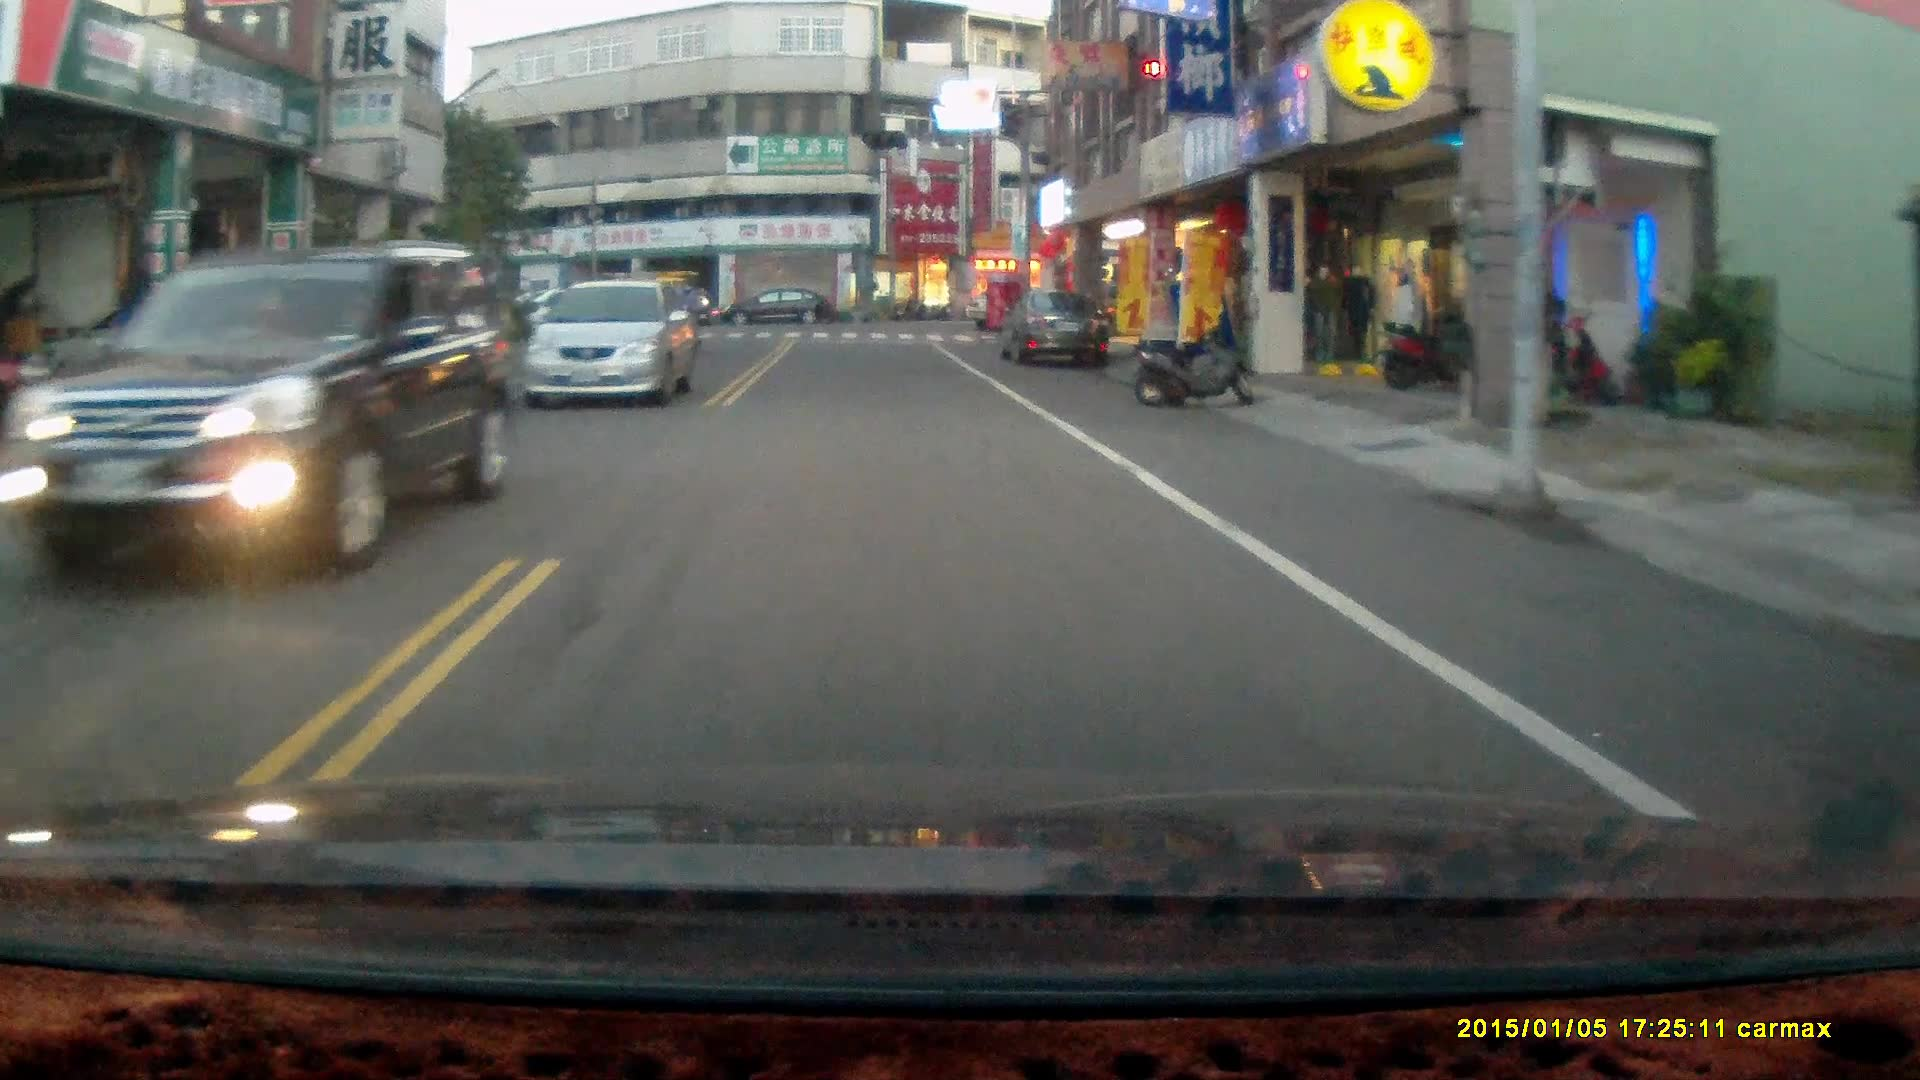vehicle: (3, 243, 501, 601), (531, 280, 700, 410), (998, 286, 1113, 375), (715, 284, 835, 331)
